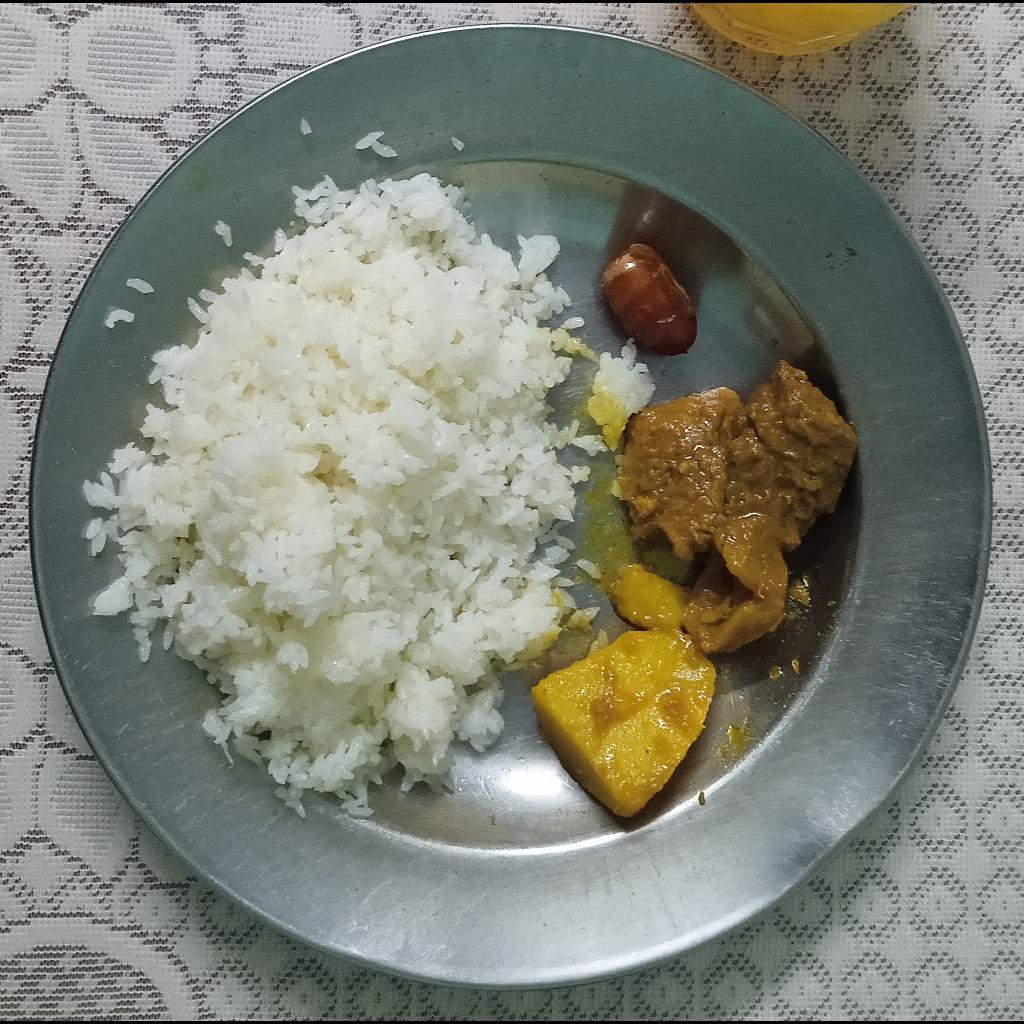beef: (621, 362, 860, 655)
dates: (601, 243, 698, 358)
potato: (533, 565, 713, 820)
rice: (80, 178, 658, 823)
